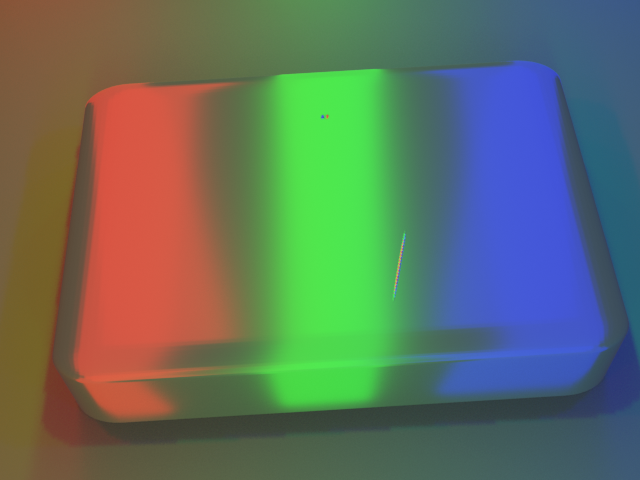dent: (307, 89, 338, 120)
scratch: (265, 189, 550, 357)
